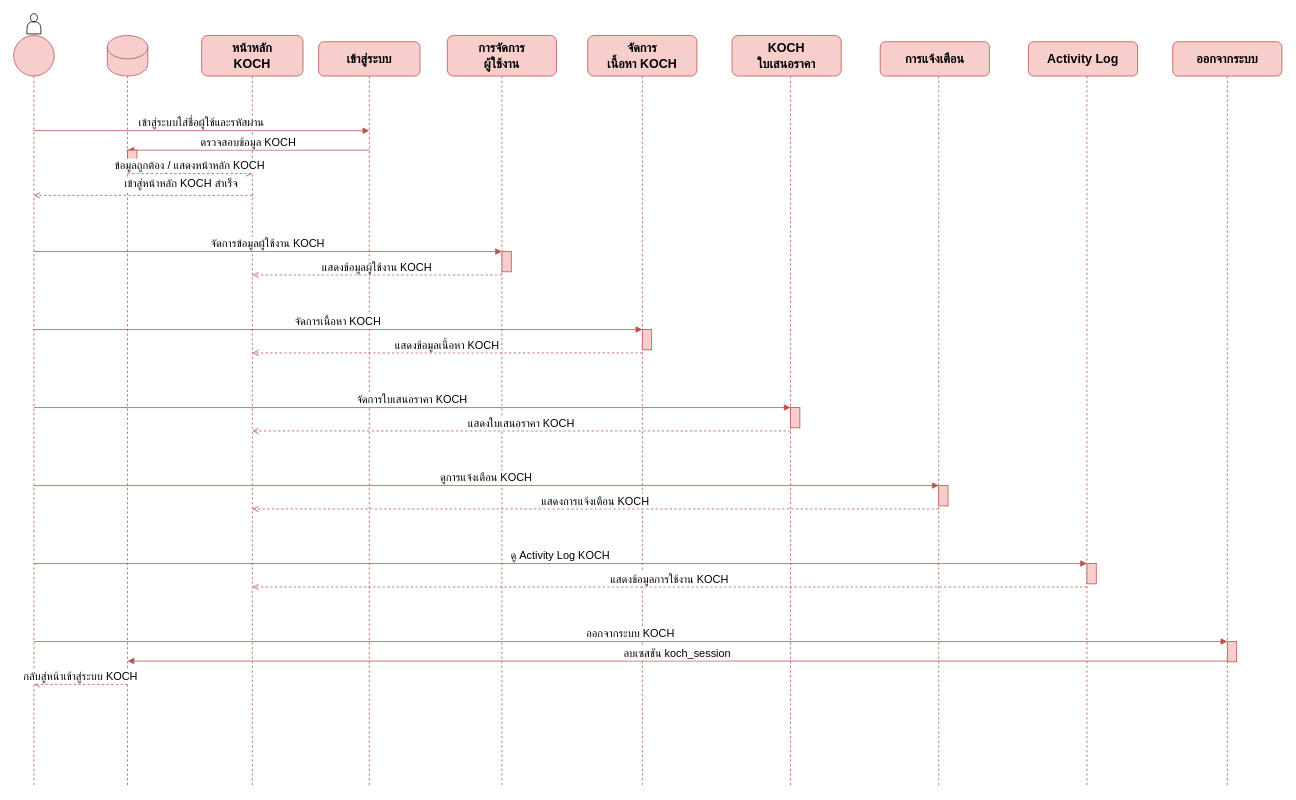
Some shapes in this 1296 by 800 pixel diagram are drawn without their labels. The centre of each missing label's shape, as x and y in pixels:
Admin KOCH: [33,55]
Database: [127,55]
